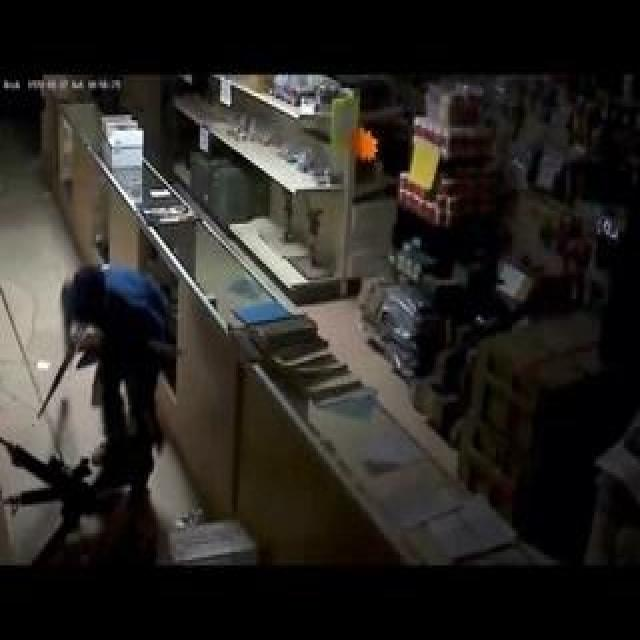thief: (62, 220, 194, 431)
